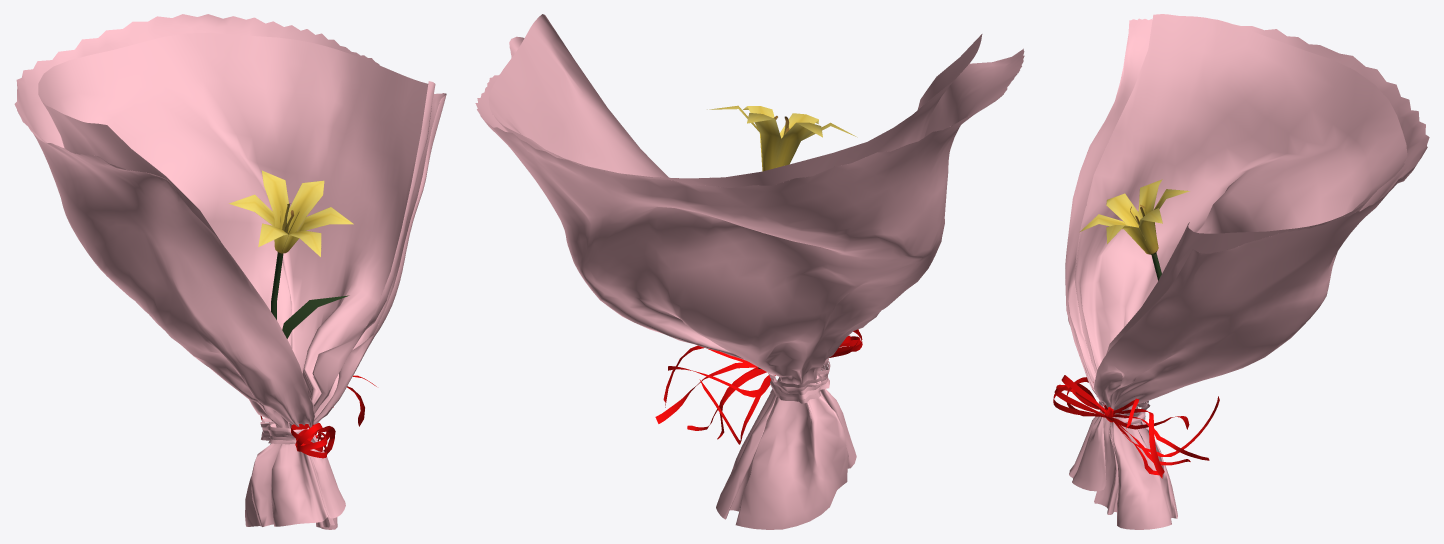
The picture shows the model from 3 angles, left to right: view 1: azimuth 30°, elevation 25°; view 2: azimuth 150°, elevation 25°; view 3: azimuth 270°, elevation 25°; orthographic projection. The views are drawn at different scales.
Visible parts, largest first — view 1: inner, outer, SM_Lilly1, ribbon, parcel_knot; view 2: outer, inner, SM_Lilly1, ribbon, parcel_knot; view 3: inner, outer, ribbon, SM_Lilly1.
Part boxes in pixels (left/top/right/bottom): inner: left=38, top=32, right=435, bottom=428; outer: left=14, top=14, right=446, bottom=529; SM_Lilly1: left=229, top=170, right=353, bottom=339; ribbon: left=260, top=375, right=376, bottom=458; parcel_knot: left=260, top=418, right=308, bottom=444; outer: left=475, top=36, right=1024, bottom=529; inner: left=488, top=14, right=982, bottom=187; SM_Lilly1: left=707, top=105, right=857, bottom=369; ribbon: left=655, top=329, right=862, bottom=444; parcel_knot: left=767, top=358, right=830, bottom=403; inner: left=1074, top=14, right=1407, bottom=376; outer: left=1065, top=18, right=1429, bottom=529; ribbon: left=1053, top=375, right=1219, bottom=478; SM_Lilly1: left=1080, top=179, right=1189, bottom=280.
Bounding box in the file's own units: 1.81 × 1.9 × 1.55.
Materials: 6 (1 with a texture image).
